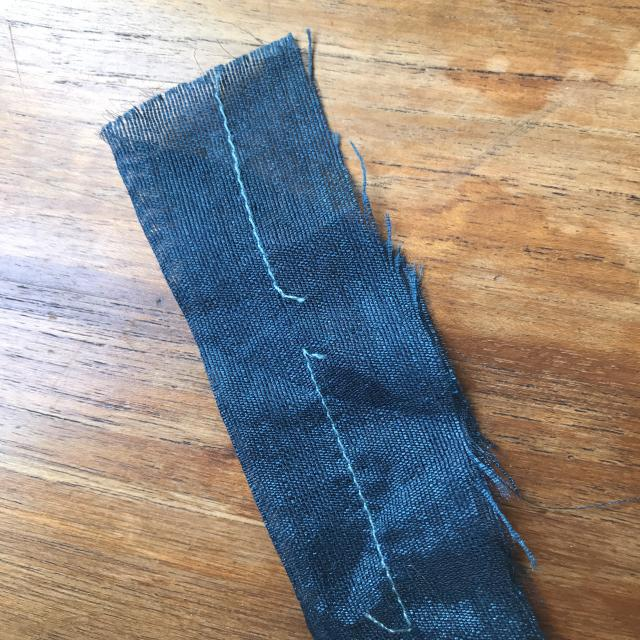broken: (254, 289, 344, 369)
